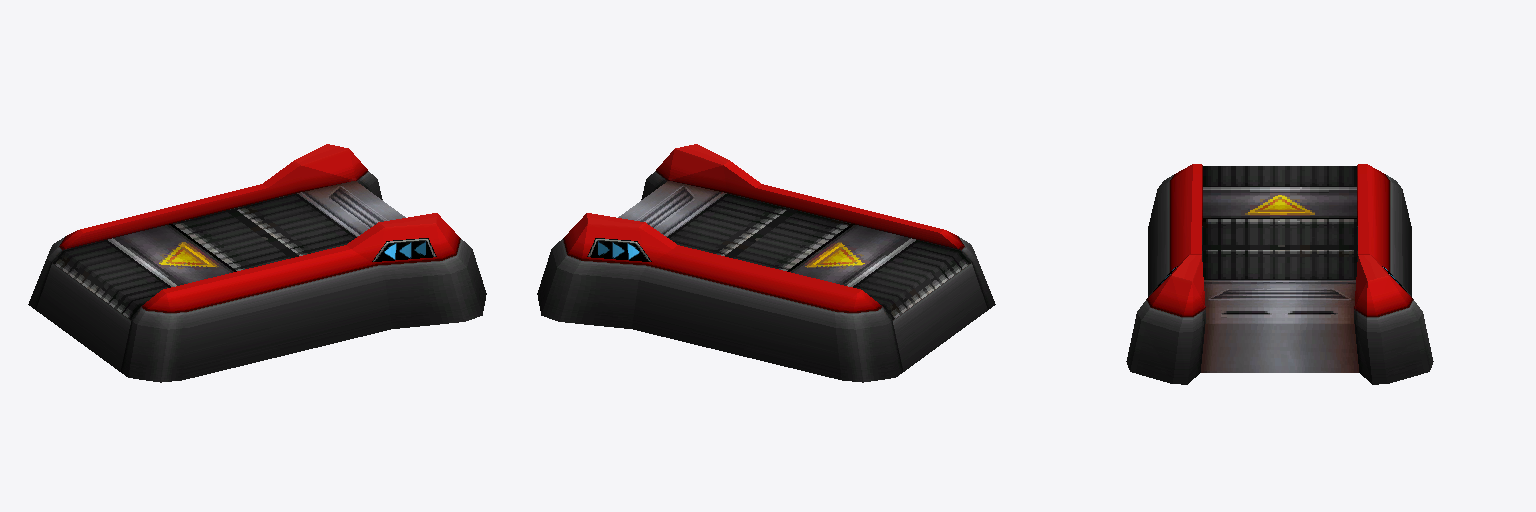
3 renders of one model, left to right at view 1: azimuth 30°, elevation 25°; view 2: azimuth 150°, elevation 25°; view 3: azimuth 270°, elevation 25°, orthographic.
Visible parts, largest first — view 1: cmn_obj_dashpanel_dif_SD, cmn_obj_dashbelt_dif_SD; view 2: cmn_obj_dashpanel_dif_SD, cmn_obj_dashbelt_dif_SD; view 3: cmn_obj_dashpanel_dif_SD, cmn_obj_dashbelt_dif_SD.
Part boxes in pixels (x1,y1,x2,y2): cmn_obj_dashpanel_dif_SD: (28, 144, 486, 382); cmn_obj_dashbelt_dif_SD: (53, 193, 356, 319); cmn_obj_dashpanel_dif_SD: (537, 144, 995, 382); cmn_obj_dashbelt_dif_SD: (667, 193, 970, 319); cmn_obj_dashpanel_dif_SD: (1126, 164, 1433, 384); cmn_obj_dashbelt_dif_SD: (1202, 166, 1357, 279).
Size of the model in its own units: 25.94 by 5.83 by 19.4.
Materials: 2 (2 with a texture image).